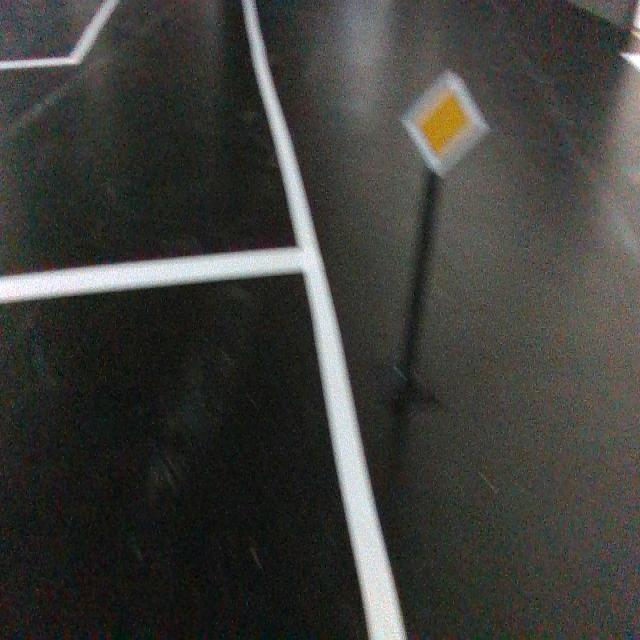priority-sign: (399, 68, 491, 180)
